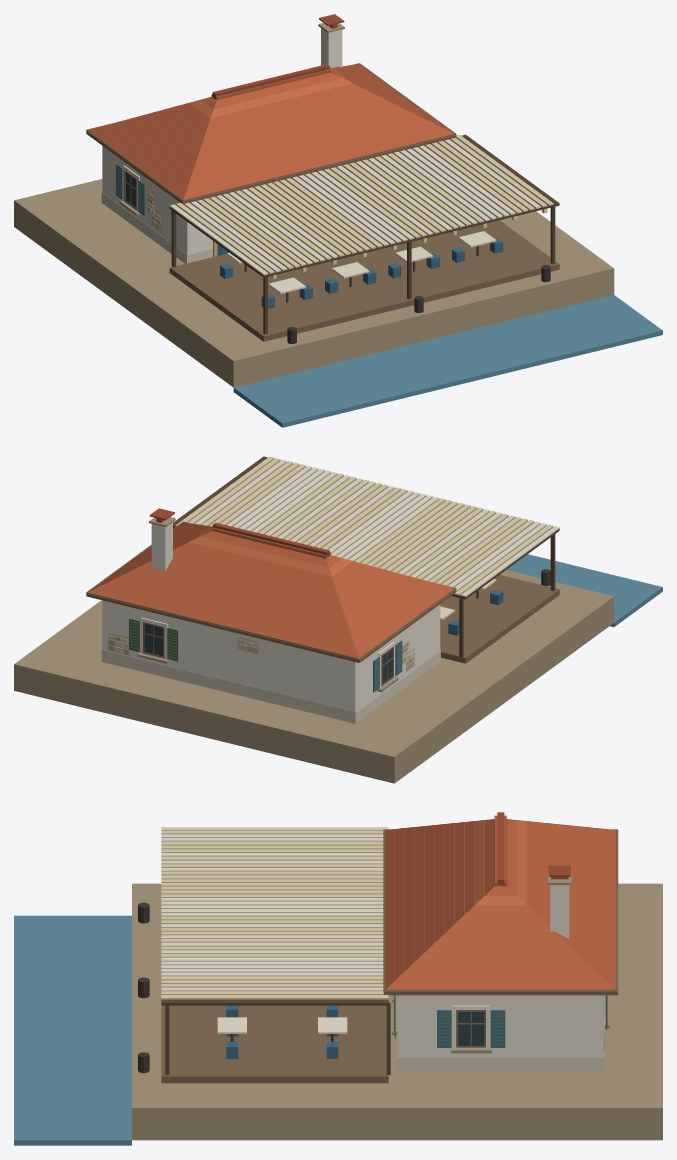
The model's file is liman-balik-lokantasi.glb.
3 views of the same model, one above another, from view 1: azimuth 30°, elevation 25°; view 2: azimuth 150°, elevation 25°; view 3: azimuth 270°, elevation 25° (orthographic). The views are drawn at different scales.
Visible parts, largest first — view 1: tas_koyu, kiremit1, ahsap, deniz, kum, bez, ahsap_koyu, badana, mavi_kapi, kiremit3, badana_kir, kiremit4; view 2: tas_koyu, kiremit1, badana, kum, bez, ahsap, ahsap_koyu, badana_kir, deniz, kiremit3, kiremit4, cam (+2 smaller); view 3: tas_koyu, kiremit1, deniz, kum, bez, ahsap, badana, badana_kir, ahsap_koyu, kiremit3, kepenk, cam (+3 smaller).
Boxes of the visible parts, x1=… form: tas_koyu: x1=14, y1=23, x2=614, y2=387; kiremit1: x1=86, y1=64, x2=456, y2=201; ahsap: x1=86, y1=63, x2=559, y2=341; deniz: x1=233, y1=295, x2=662, y2=427; kum: x1=176, y1=134, x2=553, y2=273; bez: x1=169, y1=139, x2=540, y2=293; ahsap_koyu: x1=169, y1=134, x2=559, y2=334; badana: x1=102, y1=28, x2=342, y2=254; mavi_kapi: x1=218, y1=238, x2=503, y2=308; kiremit3: x1=189, y1=68, x2=352, y2=118; badana_kir: x1=101, y1=191, x2=212, y2=263; kiremit4: x1=212, y1=14, x2=344, y2=97; tas_koyu: x1=14, y1=517, x2=614, y2=783; kiremit1: x1=86, y1=522, x2=456, y2=660; badana: x1=102, y1=522, x2=440, y2=712; kum: x1=175, y1=456, x2=553, y2=595; bez: x1=195, y1=459, x2=559, y2=620; ahsap: x1=86, y1=521, x2=559, y2=686; ahsap_koyu: x1=173, y1=456, x2=559, y2=657; badana_kir: x1=101, y1=632, x2=440, y2=723; deniz: x1=506, y1=554, x2=662, y2=626; kiremit3: x1=190, y1=526, x2=352, y2=576; kiremit4: x1=149, y1=508, x2=329, y2=556; cam: x1=144, y1=624, x2=392, y2=683; tas_koyu: x1=132, y1=873, x2=662, y2=1140; kiremit1: x1=383, y1=815, x2=618, y2=991; deniz: x1=14, y1=915, x2=131, y2=1145; kum: x1=161, y1=830, x2=388, y2=999; bez: x1=161, y1=827, x2=388, y2=1033; ahsap: x1=161, y1=829, x2=617, y2=1083; badana: x1=395, y1=885, x2=605, y2=1057; badana_kir: x1=397, y1=1016, x2=604, y2=1070; ahsap_koyu: x1=161, y1=999, x2=390, y2=1074; kiremit3: x1=475, y1=820, x2=526, y2=905; kepenk: x1=437, y1=1010, x2=505, y2=1047; cam: x1=456, y1=1010, x2=484, y2=1046.
Size of the model in its own units: 18 by 7.96 by 22.
